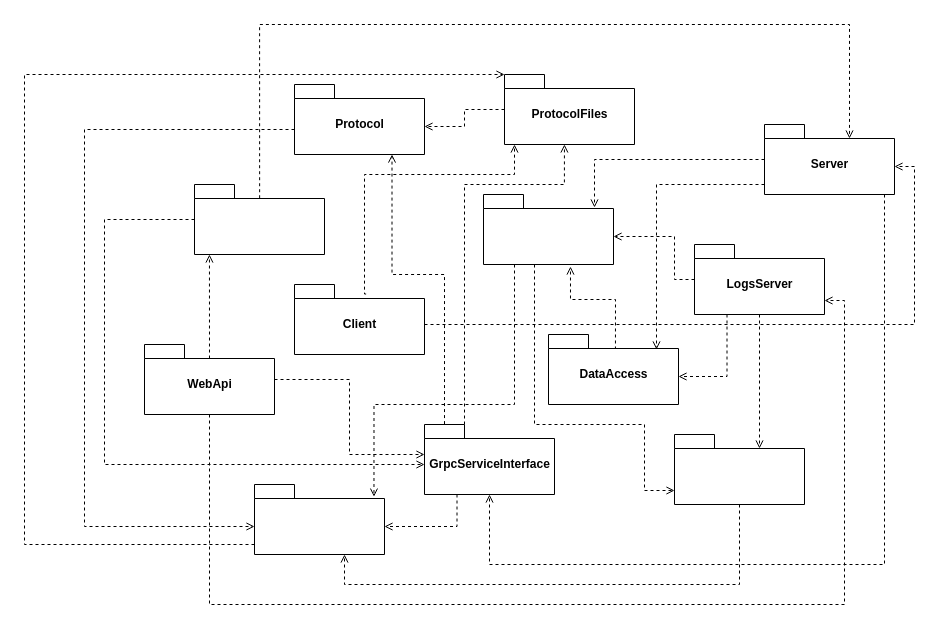
This 940x630 diagram has some shape labels left out. Each missing label, with the box of its shape:
AdministrativeServer: (194, 184, 324, 254)
BusinessLogic: (482, 194, 614, 264)
DomainObjects: (254, 484, 384, 554)
LogsServerInterface: (674, 434, 804, 504)
